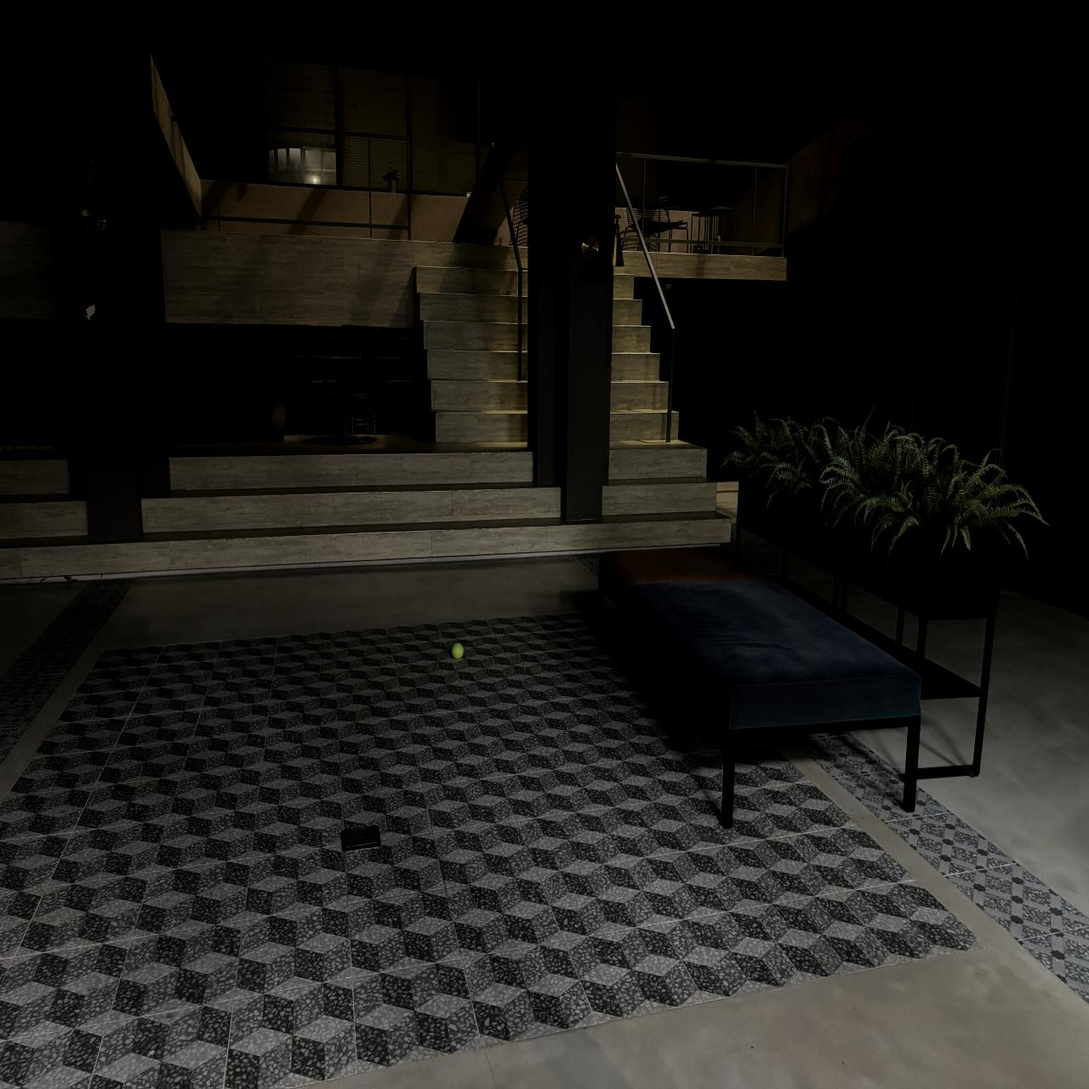tennisball: (451, 643, 464, 659)
